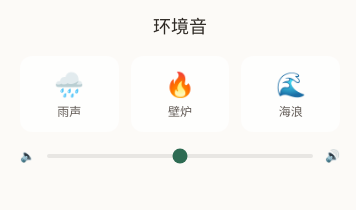
Test: AmbientPlayer › 播放控制 › 再次点击同一音效 → 暂停（不创建新 Audio）
Expected: the text "雨声" is shown, 57,104 -> 81,120
Click the button "🌧 雨声": x=69, y=94 20,56 -> 119,132
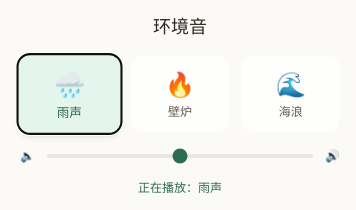
Click the button "🌧 雨声": x=69, y=94 18,54 -> 121,134
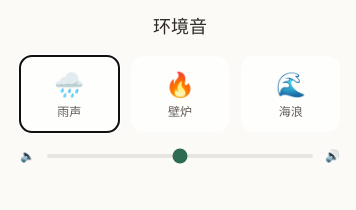
Now the text "正在播放" is gone
